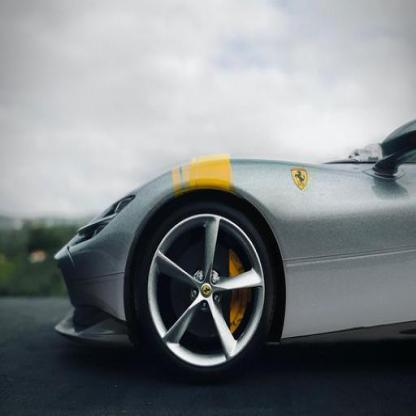Tire: (131, 195, 276, 381)
